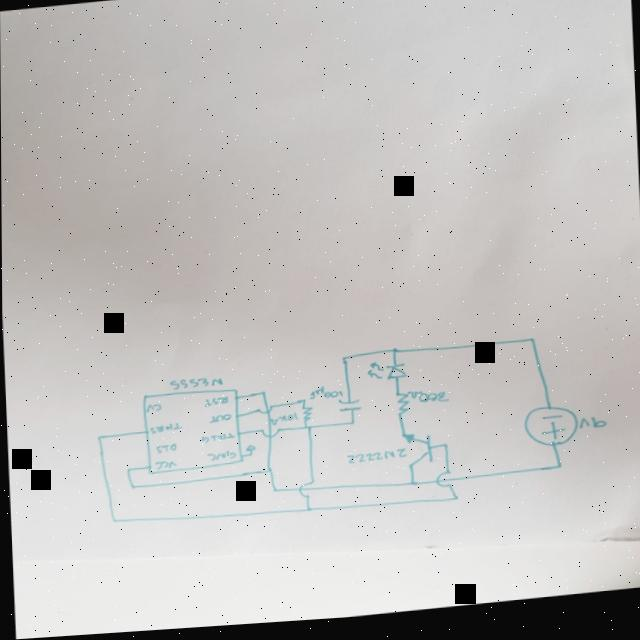capacitor: (335, 402, 364, 419)
crossover: (296, 485, 316, 505), (434, 476, 454, 496), (260, 431, 282, 443), (255, 409, 274, 419)
diode: (364, 364, 409, 390)
ground: (245, 448, 257, 455)
junction: (552, 471, 564, 478), (339, 359, 349, 367), (527, 343, 537, 350), (406, 486, 416, 493), (390, 352, 398, 360), (265, 470, 273, 478), (452, 501, 460, 508), (348, 424, 356, 431), (110, 519, 118, 526), (302, 429, 312, 434), (270, 491, 278, 497), (97, 436, 105, 442), (259, 394, 267, 400), (304, 511, 312, 516), (443, 449, 449, 455), (300, 402, 306, 408), (126, 469, 132, 475), (247, 456, 253, 461), (129, 487, 135, 491)
resistor: (390, 391, 414, 426), (298, 410, 314, 427)
source: (524, 411, 579, 455)
text: (341, 452, 407, 470), (168, 377, 224, 394), (408, 393, 451, 413), (308, 388, 343, 406), (579, 421, 608, 441), (148, 423, 184, 437), (200, 434, 236, 447), (205, 452, 237, 465), (202, 398, 230, 410), (273, 417, 297, 429), (208, 415, 232, 427), (154, 444, 178, 456), (154, 461, 178, 473), (145, 404, 163, 416)
transistor: (402, 435, 435, 474)
